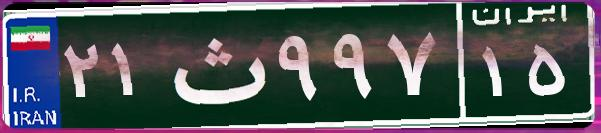1: (475, 38, 525, 113), (110, 28, 158, 105)
2: (57, 26, 110, 107)
5: (525, 38, 570, 115)
7: (385, 28, 445, 110)
9: (273, 28, 330, 110), (330, 28, 385, 110)
ث: (158, 15, 273, 115)
